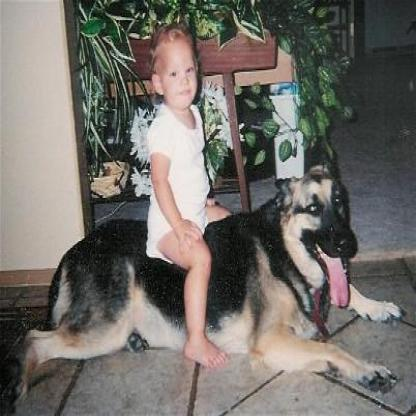German_shepherd: (4, 158, 407, 403)
